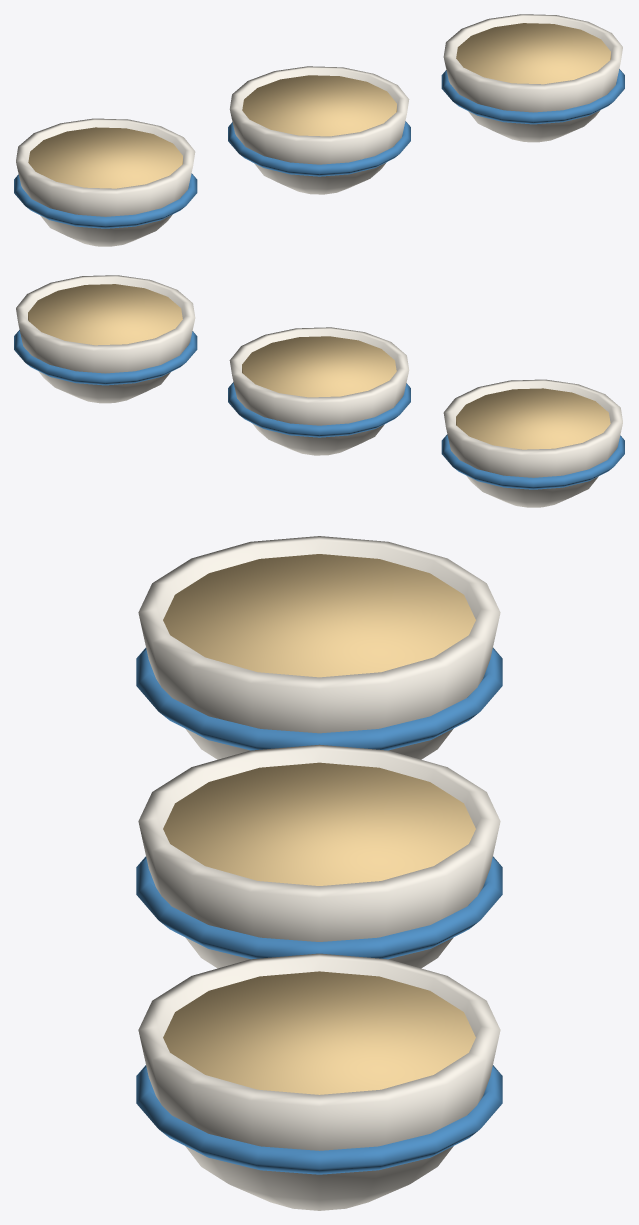
Rendered from bowls.glb.
The picture shows the model from 3 angles, top to bottom: view 1: azimuth 30°, elevation 25°; view 2: azimuth 150°, elevation 25°; view 3: azimuth 270°, elevation 25°; orthographic projection. The views are drawn at different scales.
Parts seen in each view (by area): view 1: bowl-2-body, bowl-0-body, bowl-1-body, bowl-0-dough, bowl-2-dough, bowl-1-dough, bowl-2-band, bowl-1-band, bowl-0-band; view 2: bowl-2-body, bowl-0-body, bowl-1-body, bowl-0-dough, bowl-2-dough, bowl-1-dough, bowl-2-band, bowl-1-band, bowl-0-band; view 3: bowl-2-body, bowl-1-body, bowl-0-body, bowl-1-dough, bowl-0-dough, bowl-2-dough, bowl-2-band, bowl-1-band, bowl-0-band.
Part boxes in pixels (x1,y1,x2,y2): bowl-2-body: (443, 14, 622, 142); bowl-0-body: (229, 66, 409, 194); bowl-1-body: (16, 118, 195, 246); bowl-0-dough: (242, 75, 396, 136); bowl-2-dough: (456, 23, 610, 84); bowl-1-dough: (28, 127, 182, 188); bowl-2-band: (441, 69, 624, 124); bowl-1-band: (14, 173, 197, 228); bowl-0-band: (228, 121, 410, 176); bowl-2-body: (16, 275, 195, 403); bowl-0-body: (229, 327, 409, 455); bowl-1-body: (443, 379, 622, 507); bowl-0-dough: (242, 336, 396, 397); bowl-2-dough: (28, 284, 182, 345); bowl-1-dough: (456, 388, 610, 449); bowl-2-band: (14, 330, 197, 385); bowl-1-band: (441, 434, 624, 489); bowl-0-band: (228, 382, 410, 437); bowl-2-body: (138, 953, 500, 1210); bowl-1-body: (138, 536, 500, 759); bowl-0-body: (138, 744, 500, 968); bowl-1-dough: (163, 554, 475, 677); bowl-0-dough: (163, 762, 475, 885); bowl-2-dough: (163, 971, 475, 1094); bowl-2-band: (136, 1065, 502, 1174); bowl-1-band: (136, 647, 502, 750); bowl-0-band: (136, 856, 502, 959).
Size of the model in its own units: 0.826 by 0.1123 by 0.2226.
